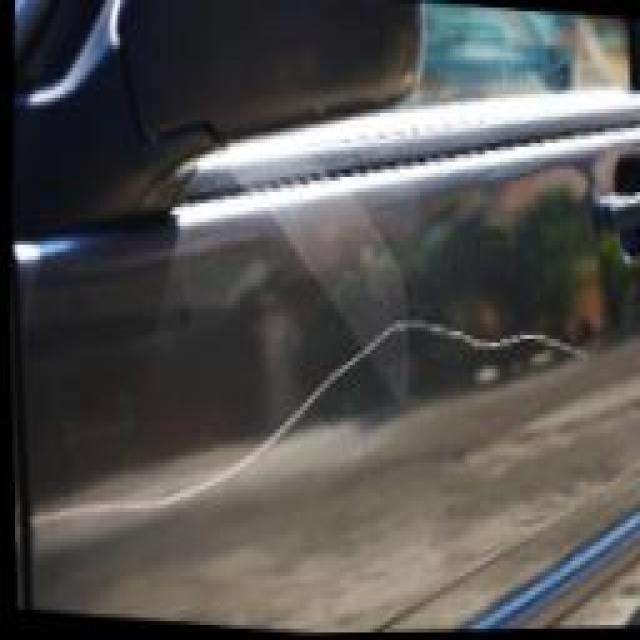Door: (17, 268, 640, 576)
